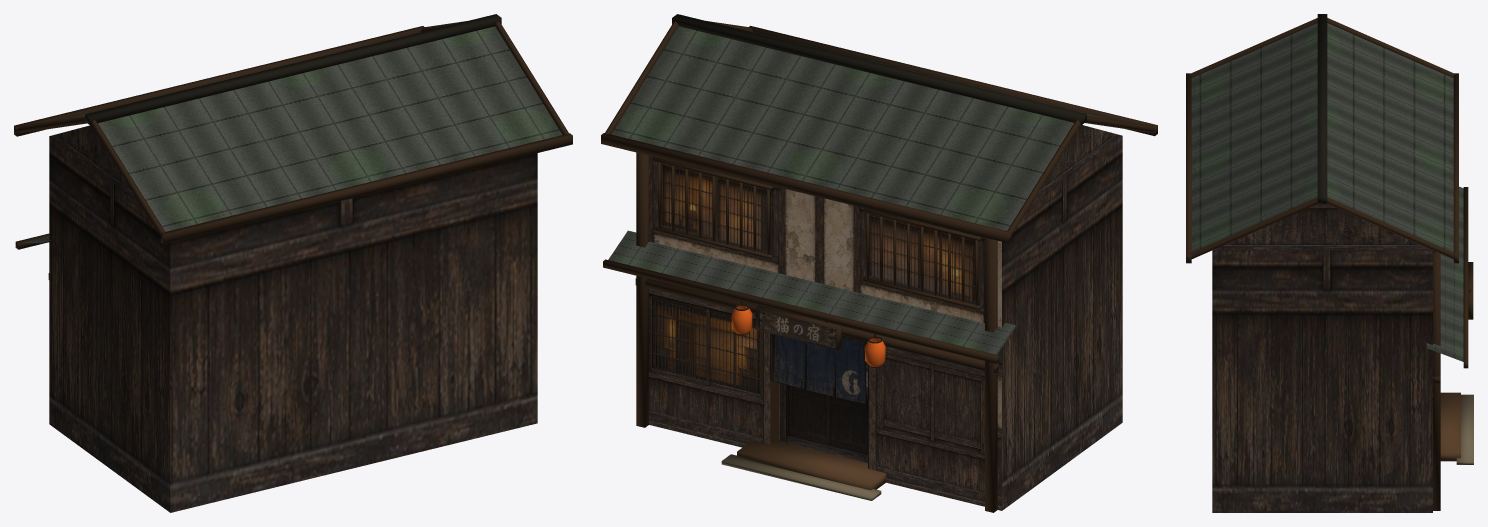
The model's file is nyanisyarud-yokai-inn.glb.
3 views of the same model, side by side, from view 1: azimuth 30°, elevation 25°; view 2: azimuth 150°, elevation 25°; view 3: azimuth 270°, elevation 25° (orthographic). The views are drawn at different scales.
Parts seen in each view (by area): view 1: Neko_No_Yado_Two_Story_Inn; view 2: Neko_No_Yado_Two_Story_Inn; view 3: Neko_No_Yado_Two_Story_Inn.
Boxes of the visible parts, left/top/right/bottom form: Neko_No_Yado_Two_Story_Inn: left=14, top=14, right=572, bottom=512; Neko_No_Yado_Two_Story_Inn: left=601, top=14, right=1157, bottom=512; Neko_No_Yado_Two_Story_Inn: left=1186, top=14, right=1473, bottom=512.
Bounding box in the file's own units: 6.27 × 5.22 × 4.17.
Materials: 1 (1 with a texture image).
